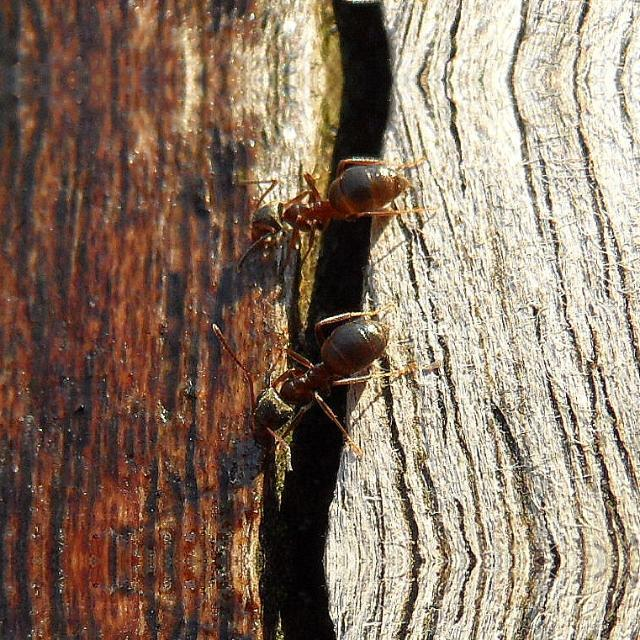Lasius: (238, 133, 436, 291), (208, 303, 430, 441)
